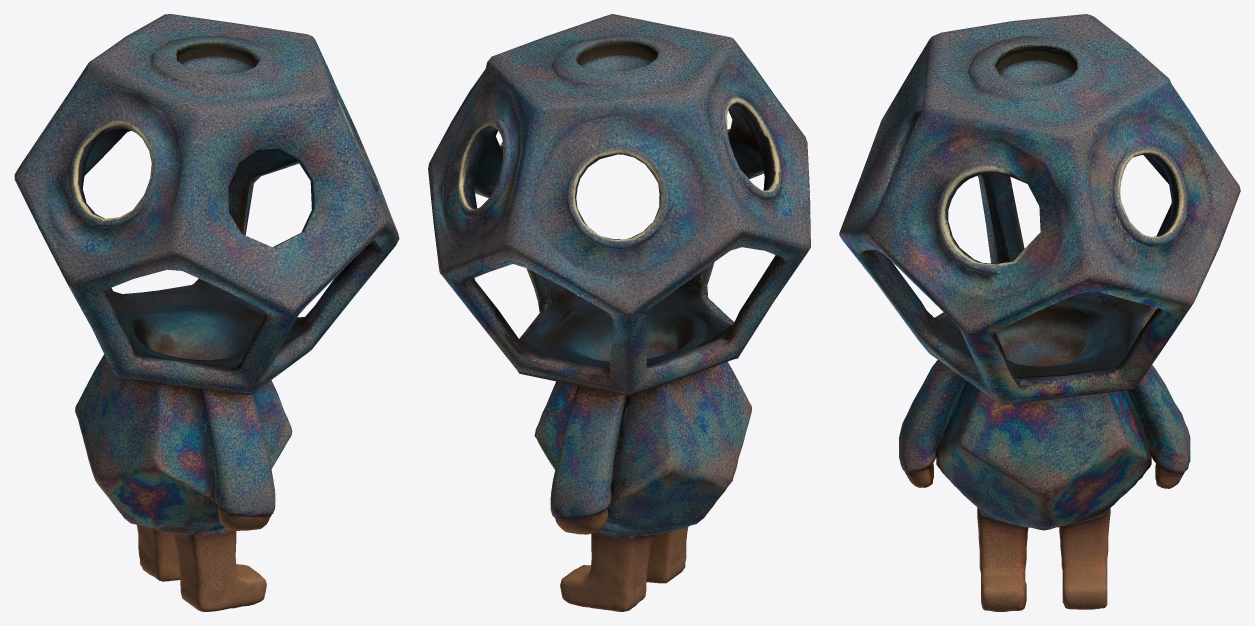
The model's file is polypal_docu.glb.
3 views of the same model, side by side, from view 1: azimuth 30°, elevation 25°; view 2: azimuth 150°, elevation 25°; view 3: azimuth 270°, elevation 25° (orthographic).
Parts seen in each view (by area): view 1: tripo_node_8136cc3a-3373-4e56-ad64-44c1c08759d1; view 2: tripo_node_8136cc3a-3373-4e56-ad64-44c1c08759d1; view 3: tripo_node_8136cc3a-3373-4e56-ad64-44c1c08759d1.
Boxes of the visible parts, x1,y1,x2,y2 form: tripo_node_8136cc3a-3373-4e56-ad64-44c1c08759d1: (14, 14, 399, 611); tripo_node_8136cc3a-3373-4e56-ad64-44c1c08759d1: (428, 14, 810, 611); tripo_node_8136cc3a-3373-4e56-ad64-44c1c08759d1: (839, 14, 1240, 611).
Size of the model in its own units: 0.6543 by 0.998 by 0.6699.
1 material, 1 textured.
